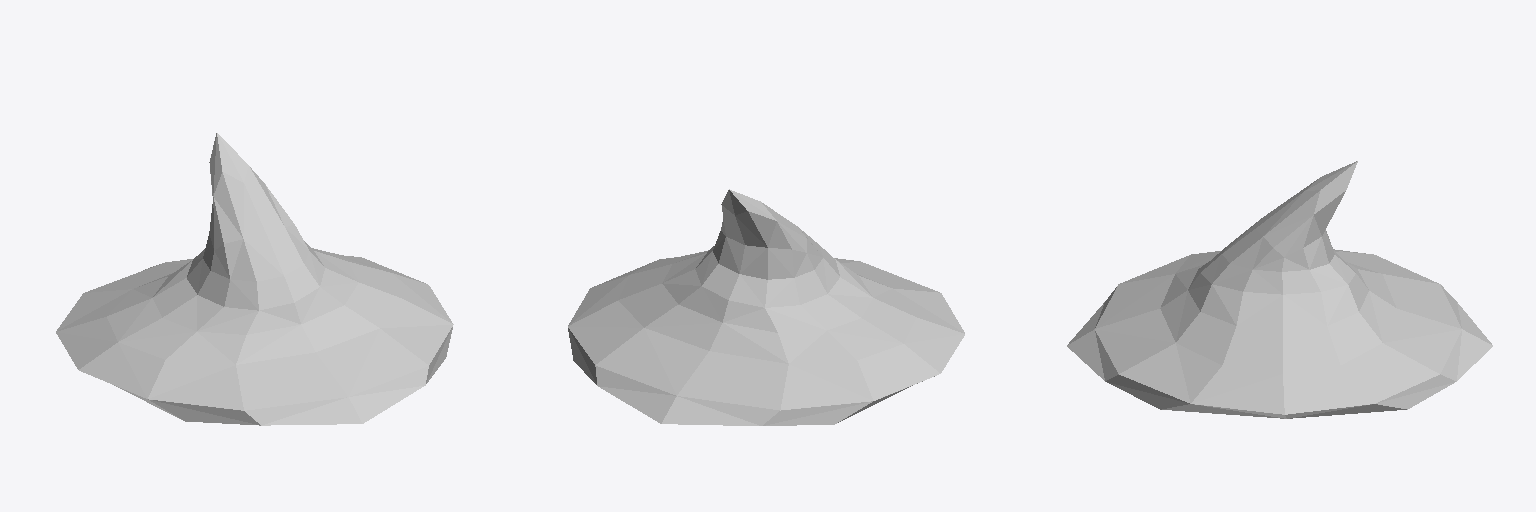
File: wizards_cap.obj
3 views of the same model, side by side, from view 1: azimuth 30°, elevation 25°; view 2: azimuth 150°, elevation 25°; view 3: azimuth 270°, elevation 25° (orthographic).
Visible parts, largest first — view 1: Cube; view 2: Cube; view 3: Cube.
Part boxes in pixels (left/top/right/bottom): Cube: left=56, top=133, right=453, bottom=425; Cube: left=568, top=189, right=964, bottom=425; Cube: left=1067, top=161, right=1492, bottom=418.
Size of the model in its own units: 0.4989 by 0.2595 by 0.5261.